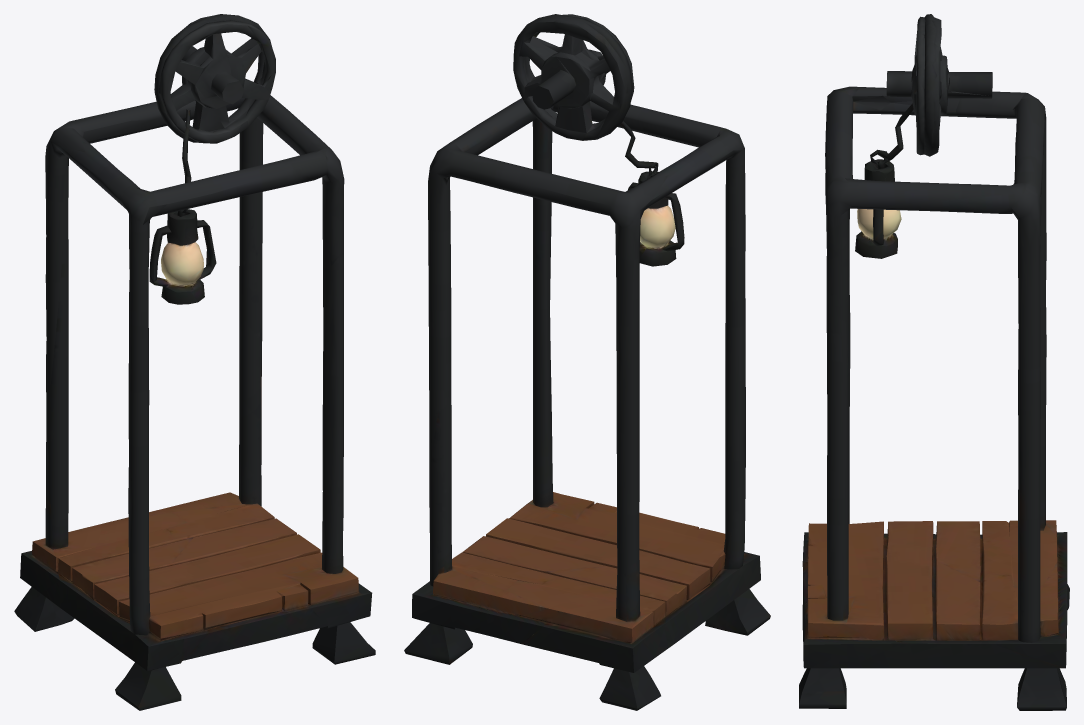
Rendered from m2MineLiftCage.glb.
3 renders of one model, left to right at view 1: azimuth 30°, elevation 25°; view 2: azimuth 150°, elevation 25°; view 3: azimuth 270°, elevation 25°, orthographic. The views are drawn at different scales.
Parts seen in each view (by area): view 1: model; view 2: model; view 3: model.
Boxes of the visible parts, <box> form: model: <box>14,14,375,710</box>; model: <box>404,14,770,710</box>; model: <box>799,14,1069,710</box>.
Size of the model in its own units: 0.7736 by 1.9 by 0.7316.
1 material, 1 textured.
